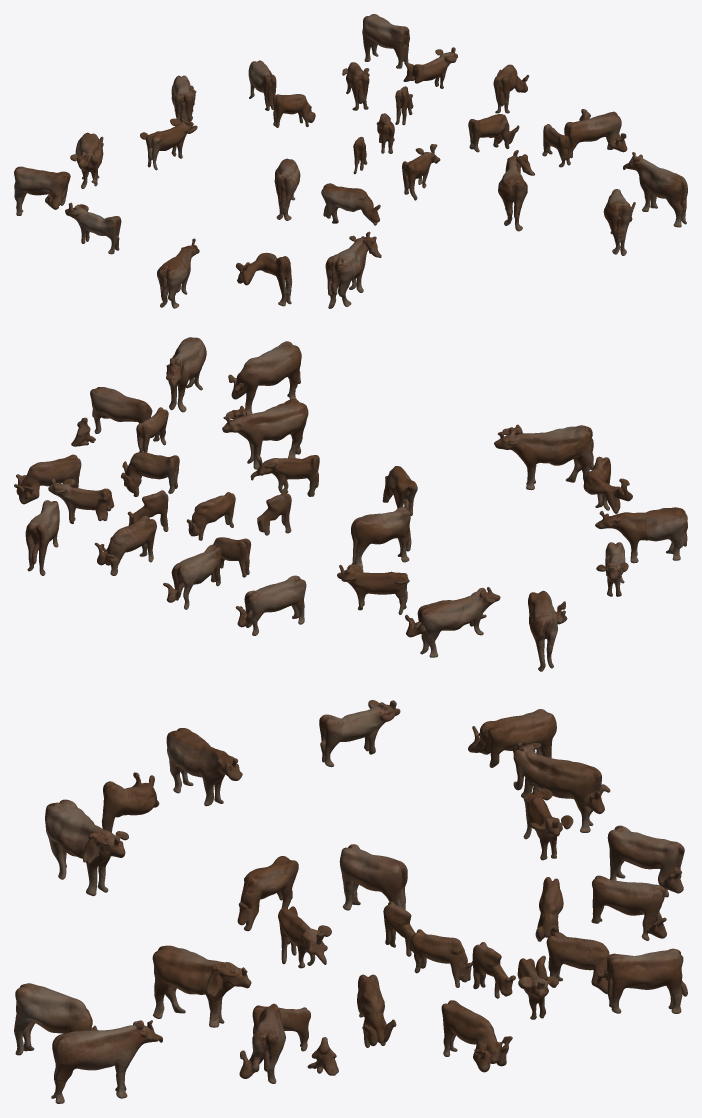
File: cattle-herd.glb
The picture shows the model from 3 angles, top to bottom: view 1: azimuth 30°, elevation 25°; view 2: azimuth 150°, elevation 25°; view 3: azimuth 270°, elevation 25°; orthographic projection. The views are drawn at different scales.
Parts seen in each view (by area): view 1: tripo_node_87a06d22-f236-49e3-85dd-4c69acaf8ab8; view 2: tripo_node_87a06d22-f236-49e3-85dd-4c69acaf8ab8; view 3: tripo_node_87a06d22-f236-49e3-85dd-4c69acaf8ab8.
Part boxes in pixels (x1,y1,x2,y2): tripo_node_87a06d22-f236-49e3-85dd-4c69acaf8ab8: (14,14,687,308); tripo_node_87a06d22-f236-49e3-85dd-4c69acaf8ab8: (14,337,687,671); tripo_node_87a06d22-f236-49e3-85dd-4c69acaf8ab8: (14,700,687,1103).
Size of the model in its own units: 1 by 0.1309 by 0.8317.
Materials: 1 (1 with a texture image).
